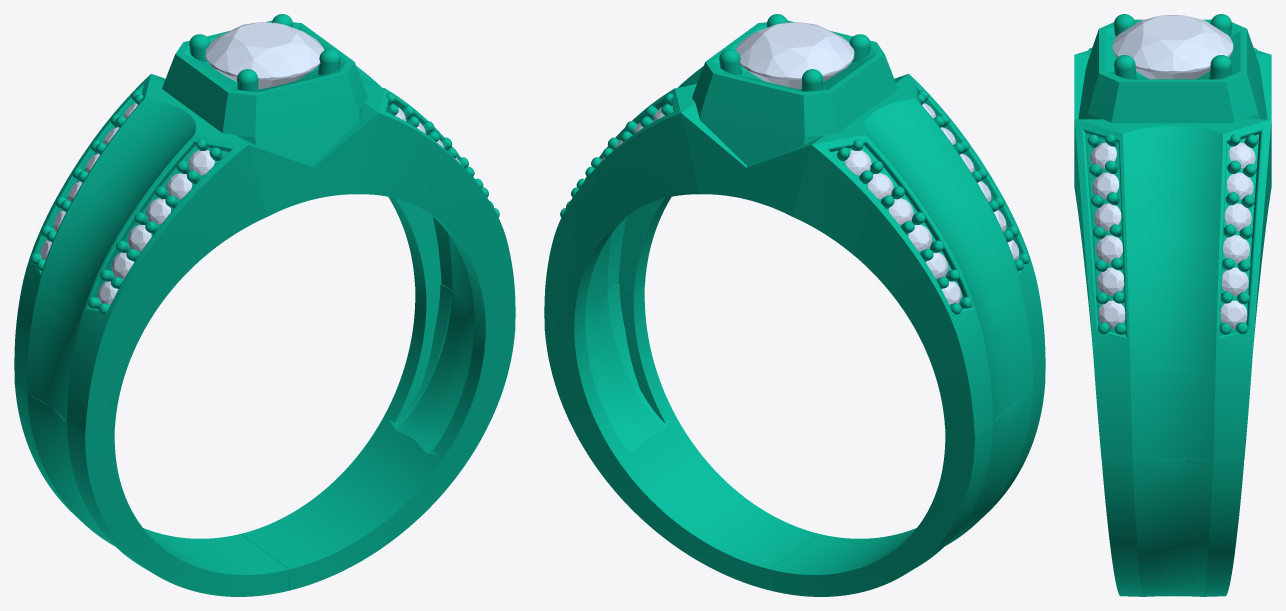
The picture shows the model from 3 angles, left to right: view 1: azimuth 30°, elevation 25°; view 2: azimuth 150°, elevation 25°; view 3: azimuth 270°, elevation 25°; orthographic projection.
Parts seen in each view (by area): view 1: 144.3dm, Diamond_Round; view 2: 144.3dm, Diamond_Round; view 3: 144.3dm, Diamond_Round (×13).
Part boxes in pixels (x1,y1,x2,y2): 144.3dm: (14, 14, 515, 596); Diamond_Round: (205, 22, 324, 89); 144.3dm: (544, 14, 1045, 596); Diamond_Round: (735, 22, 854, 89); 144.3dm: (1074, 14, 1271, 596); Diamond_Round (×13): (1090, 15, 1255, 328).
Size of the model in its own units: 2.51 by 2.96 by 0.9704.
